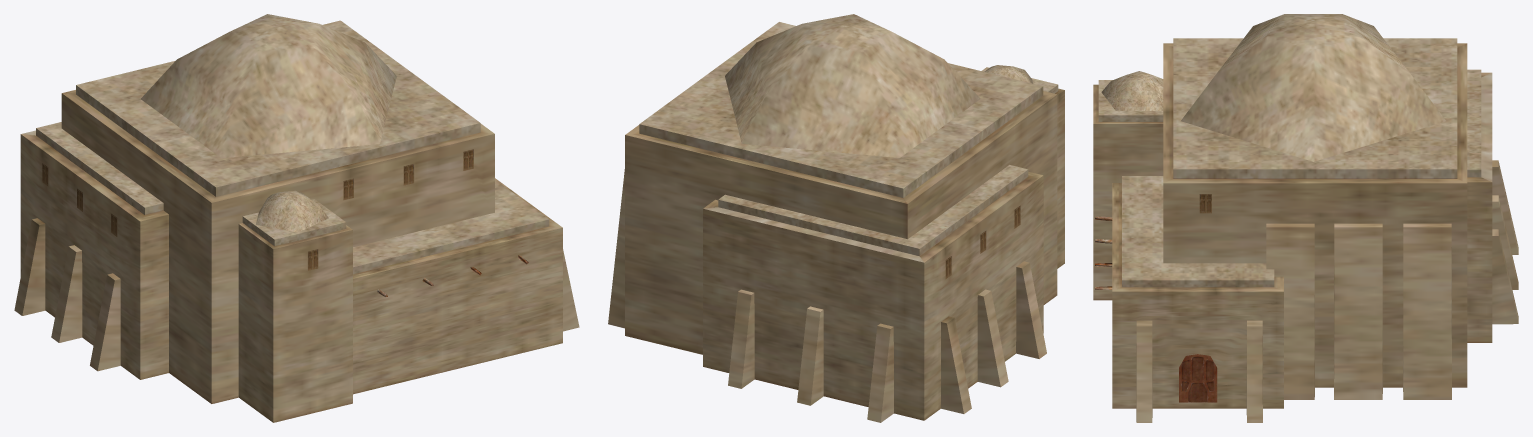
The model's file is thm_tato_imprv_building_s01_l2.fbx.
3 renders of one model, left to right at view 1: azimuth 30°, elevation 25°; view 2: azimuth 150°, elevation 25°; view 3: azimuth 270°, elevation 25°, orthographic.
Visible parts, largest first — view 1: mesh_node; view 2: mesh_node; view 3: mesh_node.
Boxes of the visible parts, x1=… form: mesh_node: x1=14, y1=14, x2=579, y2=422; mesh_node: x1=608, y1=14, x2=1064, y2=422; mesh_node: x1=1093, y1=14, x2=1518, y2=422.
Size of the model in its own units: 26.2 by 17.79 by 23.43.
